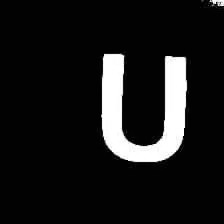LTR_U: (91, 44, 196, 168)
